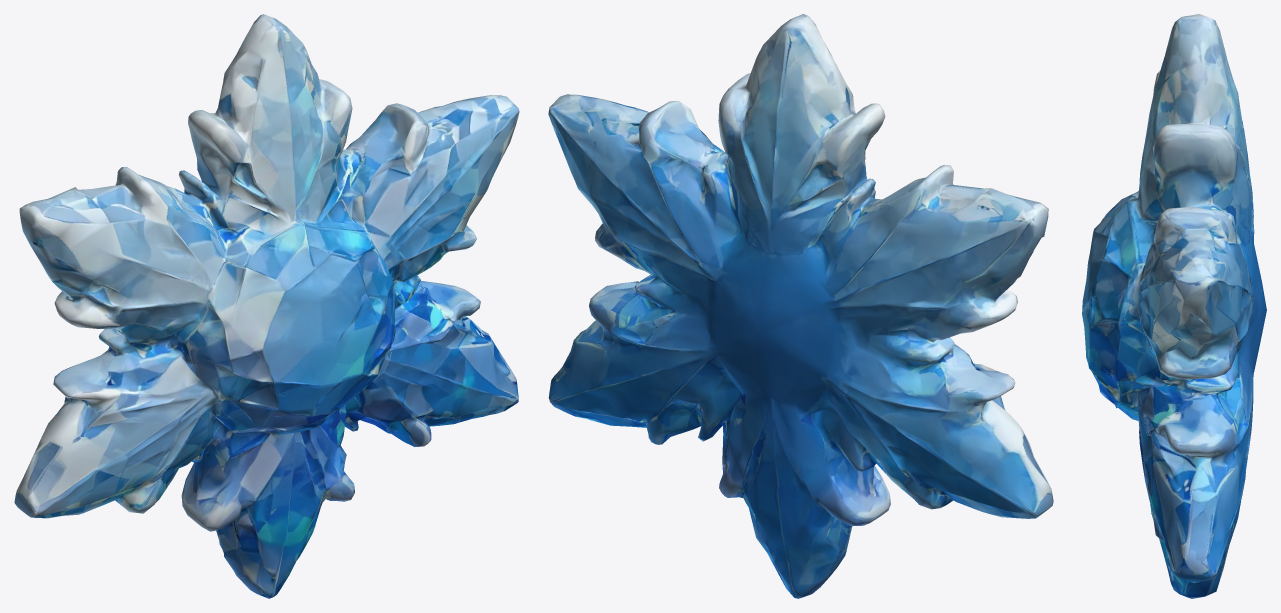
The model's file is ice-crystal.glb.
3 views of the same model, side by side, from view 1: azimuth 30°, elevation 25°; view 2: azimuth 150°, elevation 25°; view 3: azimuth 270°, elevation 25° (orthographic).
Visible parts, largest first — view 1: tripo_node_001f2816-feaf-4f08-82ba-521a720106f1; view 2: tripo_node_001f2816-feaf-4f08-82ba-521a720106f1; view 3: tripo_node_001f2816-feaf-4f08-82ba-521a720106f1.
Boxes of the visible parts, x1=… form: tripo_node_001f2816-feaf-4f08-82ba-521a720106f1: x1=14, y1=14, x2=519, y2=598; tripo_node_001f2816-feaf-4f08-82ba-521a720106f1: x1=548, y1=14, x2=1053, y2=598; tripo_node_001f2816-feaf-4f08-82ba-521a720106f1: x1=1082, y1=14, x2=1266, y2=598.
Size of the model in its own units: 0.8995 by 1 by 0.2875.
Materials: 1 (1 with a texture image).
